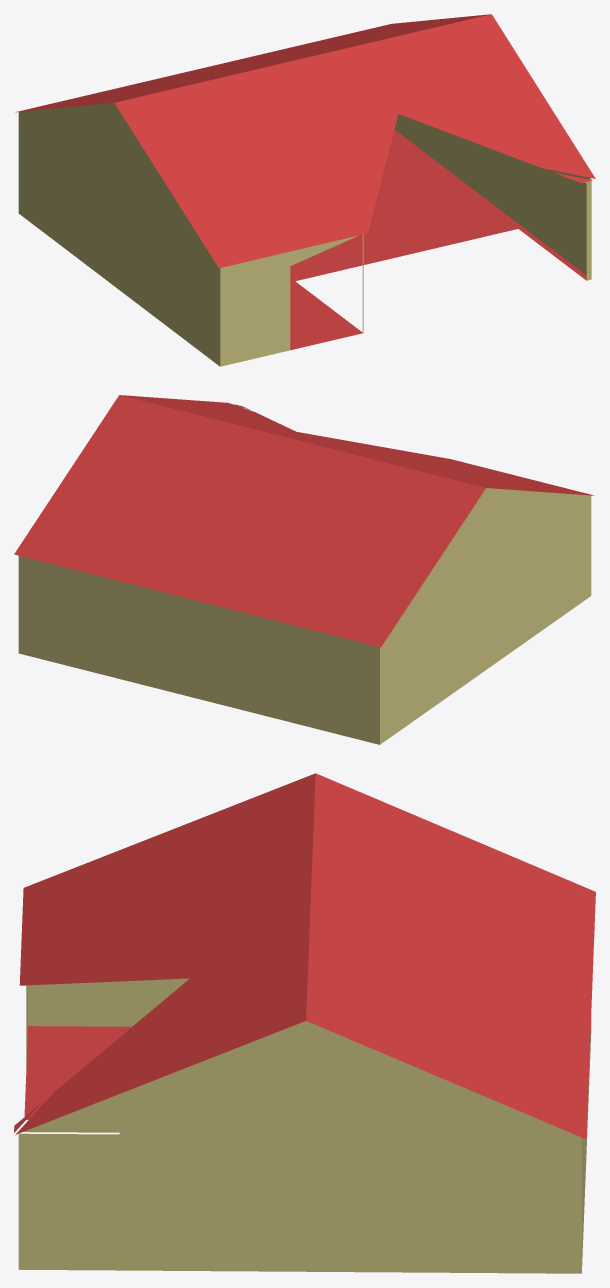
3 views of the same model, one above another, from view 1: azimuth 30°, elevation 25°; view 2: azimuth 150°, elevation 25°; view 3: azimuth 270°, elevation 25° (orthographic). The views are drawn at different scales.
Size of the model in its own units: 32.4 by 31.67 by 15.19.
